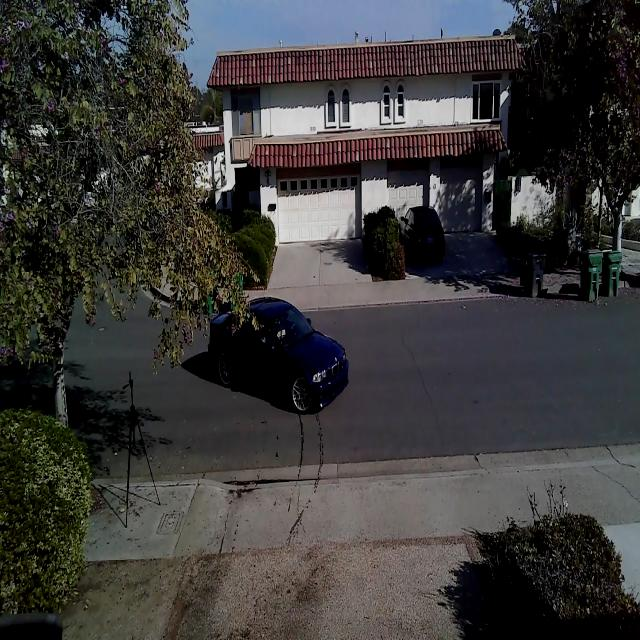Carbeetle: (200, 290, 354, 422)
Civilian: (399, 205, 446, 264)
